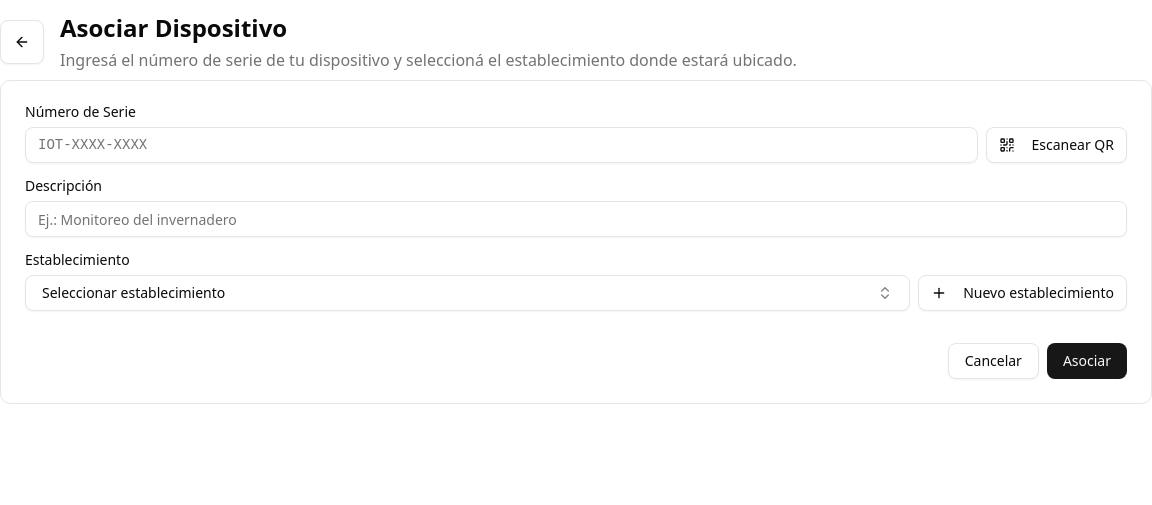
it: PairDevicePage › uses noValidate and lets the user submit an empty form to see custom messages
Click the button "Asociar".
click(1087, 361)  # box [1047,343,1127,379]
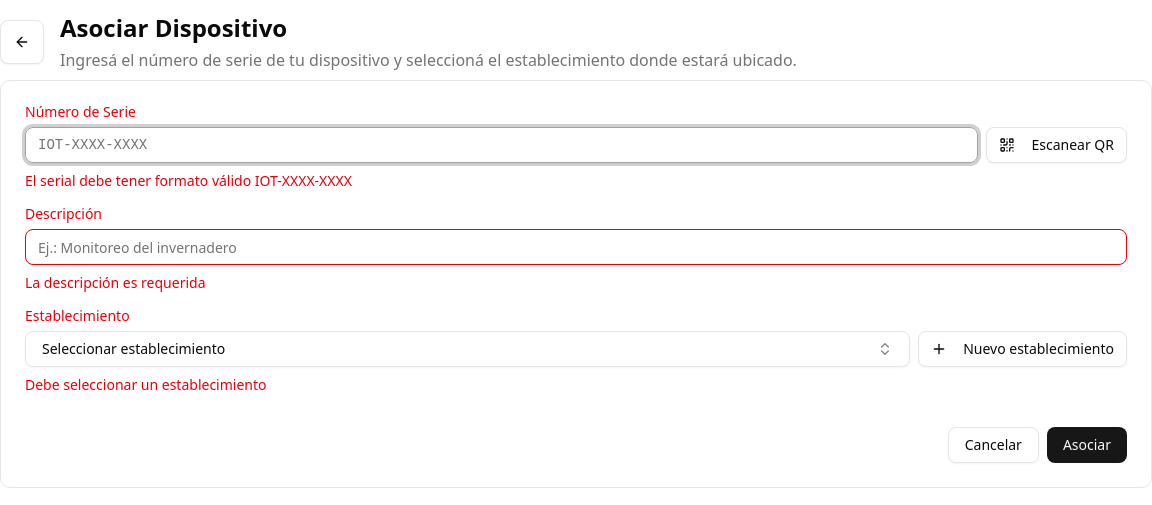
expect the text "La descripción es requerida" is shown: met, box [25,273,206,292]
expect the text "Debe seleccionar un establecimiento" is shown: met, box [25,375,266,394]
